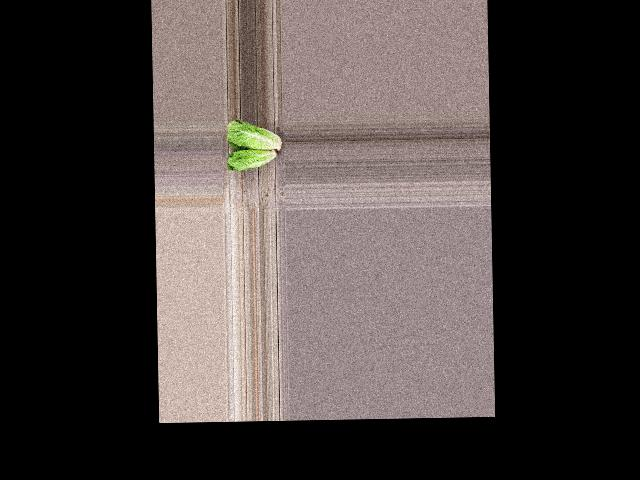lettuce: (224, 117, 284, 151)
